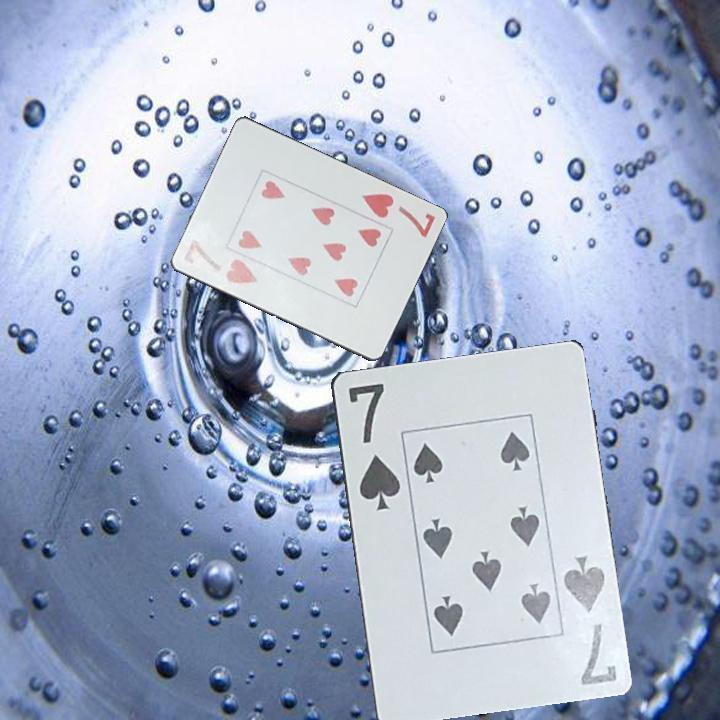7h: (179, 235, 260, 287), (358, 190, 438, 241)
7s: (555, 552, 619, 689), (343, 379, 403, 513)
